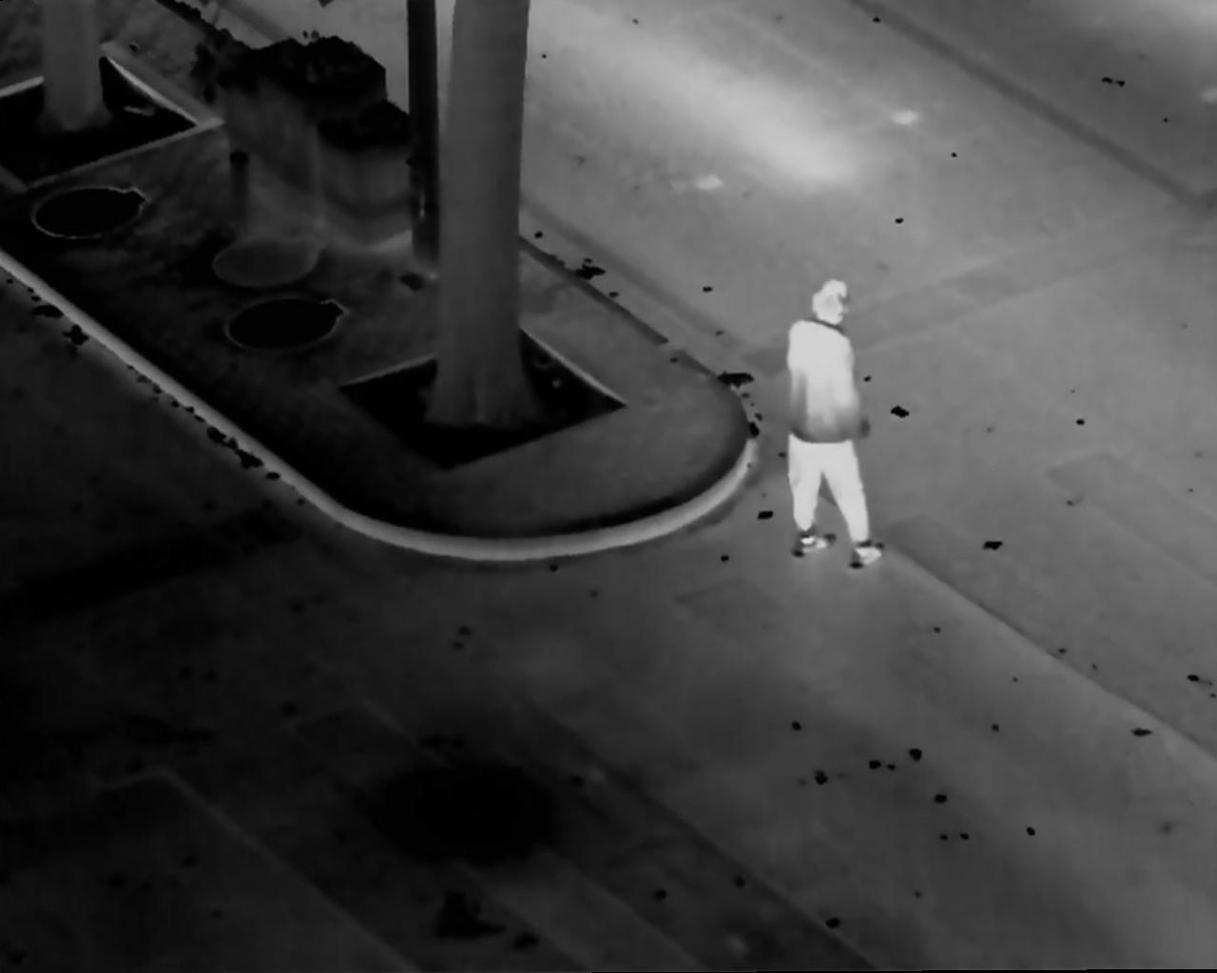person: (774, 274, 901, 568)
